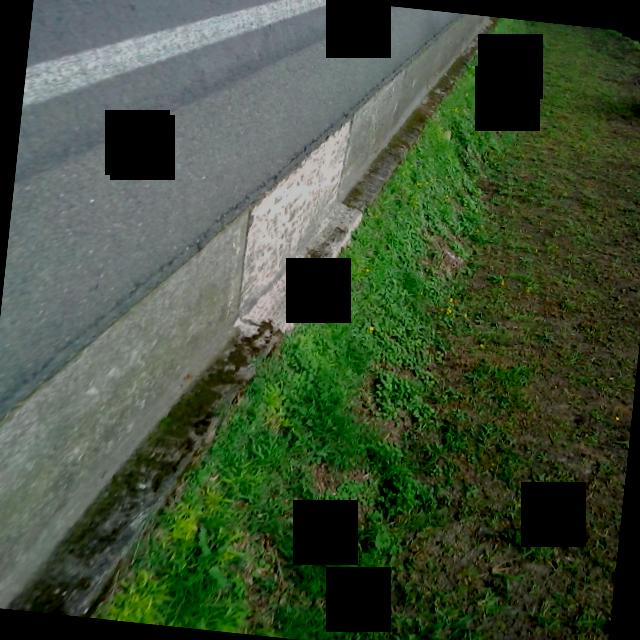DITCH: (0, 0, 621, 640), (0, 0, 497, 640)
